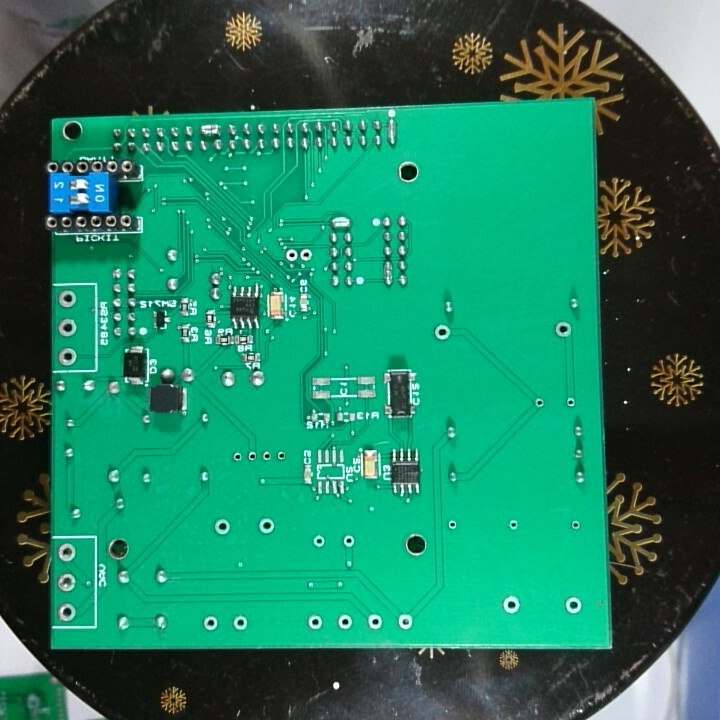F: (55, 571, 79, 595), (56, 315, 79, 340), (56, 540, 79, 564), (56, 288, 79, 311), (56, 346, 79, 369), (562, 595, 584, 618), (55, 600, 77, 623), (255, 515, 277, 538), (500, 594, 522, 616), (212, 516, 233, 538), (553, 318, 572, 342), (305, 612, 325, 633), (433, 321, 452, 343), (396, 611, 415, 633), (334, 612, 354, 632), (365, 612, 384, 633), (202, 613, 219, 634), (231, 613, 249, 632), (311, 532, 328, 552), (339, 532, 356, 551), (282, 246, 299, 264), (297, 246, 314, 264), (562, 394, 579, 410), (505, 517, 522, 533), (245, 448, 260, 466), (275, 446, 288, 466), (444, 517, 459, 534), (260, 447, 273, 466), (532, 395, 548, 409), (230, 449, 244, 465), (568, 518, 583, 532)
P: (327, 214, 354, 230), (197, 121, 224, 137), (380, 257, 394, 286), (385, 118, 398, 148)
